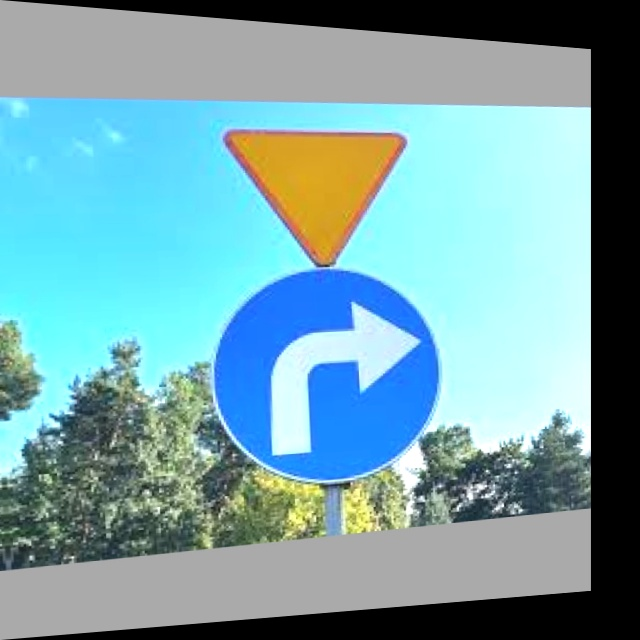Compulsory_Turn_Right_Ahead: (208, 263, 445, 488)
